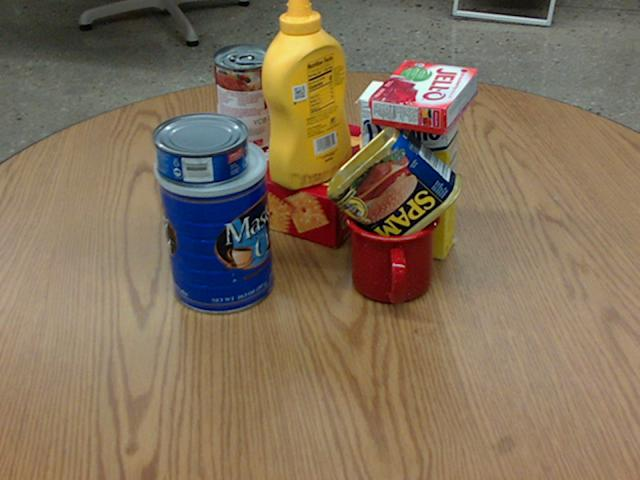cracker_box: (170, 101, 401, 248)
gelatin_box: (370, 59, 478, 134)
large_marker: (176, 135, 204, 240)
master_chef_can: (153, 133, 275, 312)
mug: (344, 191, 442, 305)
mustard_bottle: (263, 0, 352, 188)
potted_meat_can: (326, 121, 462, 254)
sugar_box: (359, 80, 460, 261)
tomato_soup_can: (212, 43, 276, 151)
tuna_fish_can: (151, 111, 248, 184)
